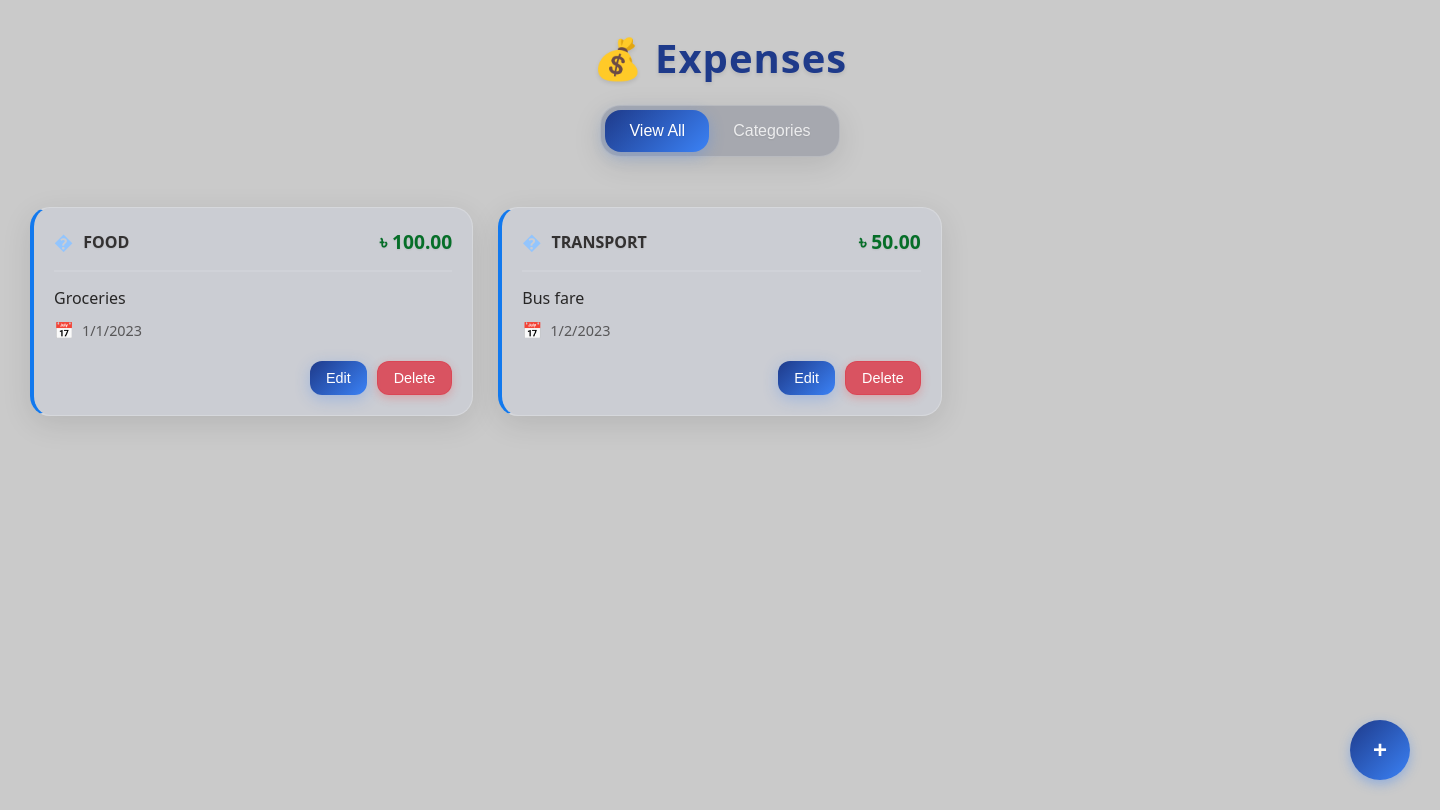
Test: Expenses Component › handles expense deletion cancellation
Expected: the text "Groceries" is shown, x1=54 y1=287 x2=126 y2=309
# Find and click delete button to open dialog
What coordinates should you click on to do the following:
click the button "Delete" below "1/1/2023"
I would click on:
 (414, 378)
Its box is x1=377 y1=361 x2=452 y2=395.
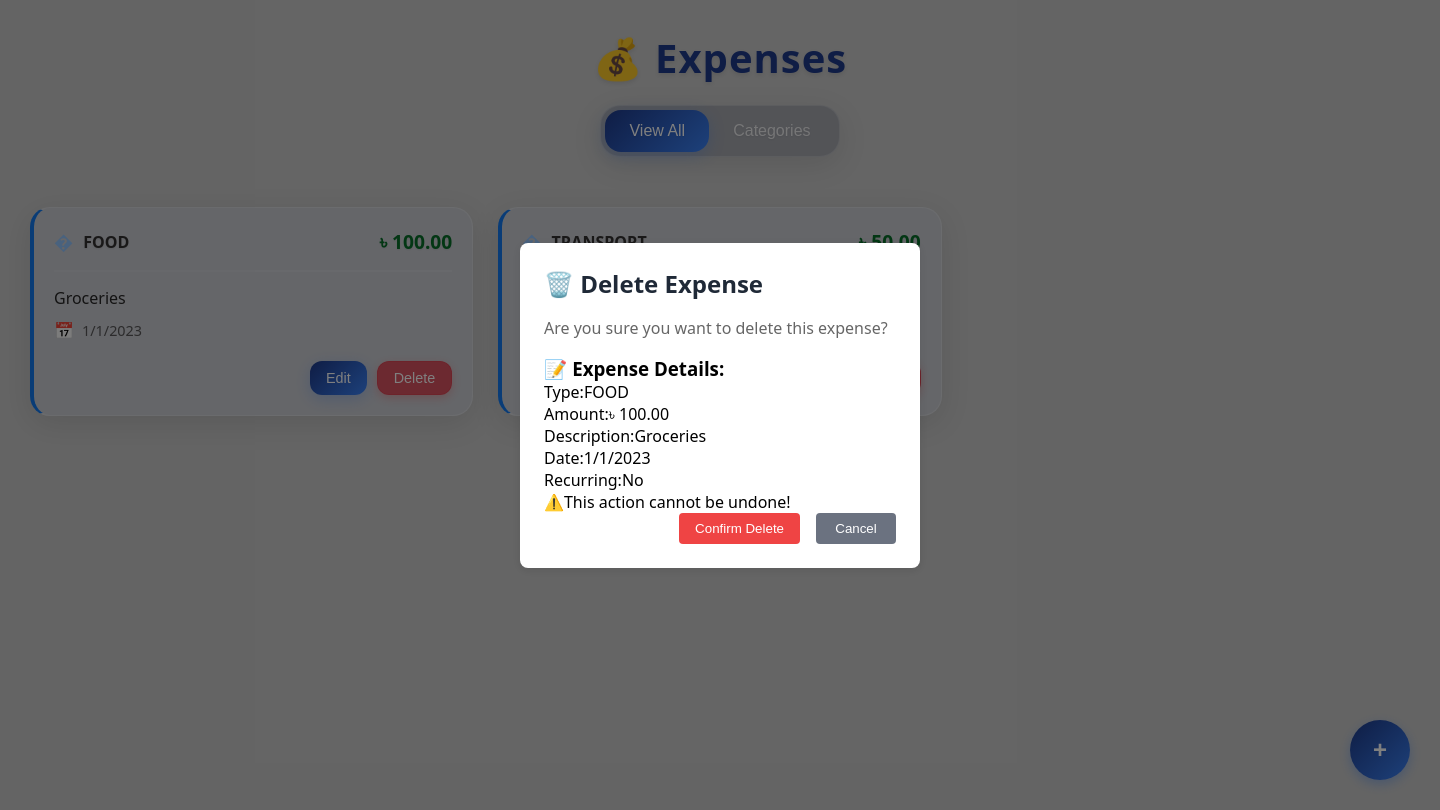
Now the text "Are you sure you want to delete this expense?" is shown, box x1=544 y1=316 x2=896 y2=340
What coordinates should you click on to do the following:
click the button "Cancel"
I would click on:
 (856, 528)
Its box is x1=816 y1=512 x2=896 y2=544.
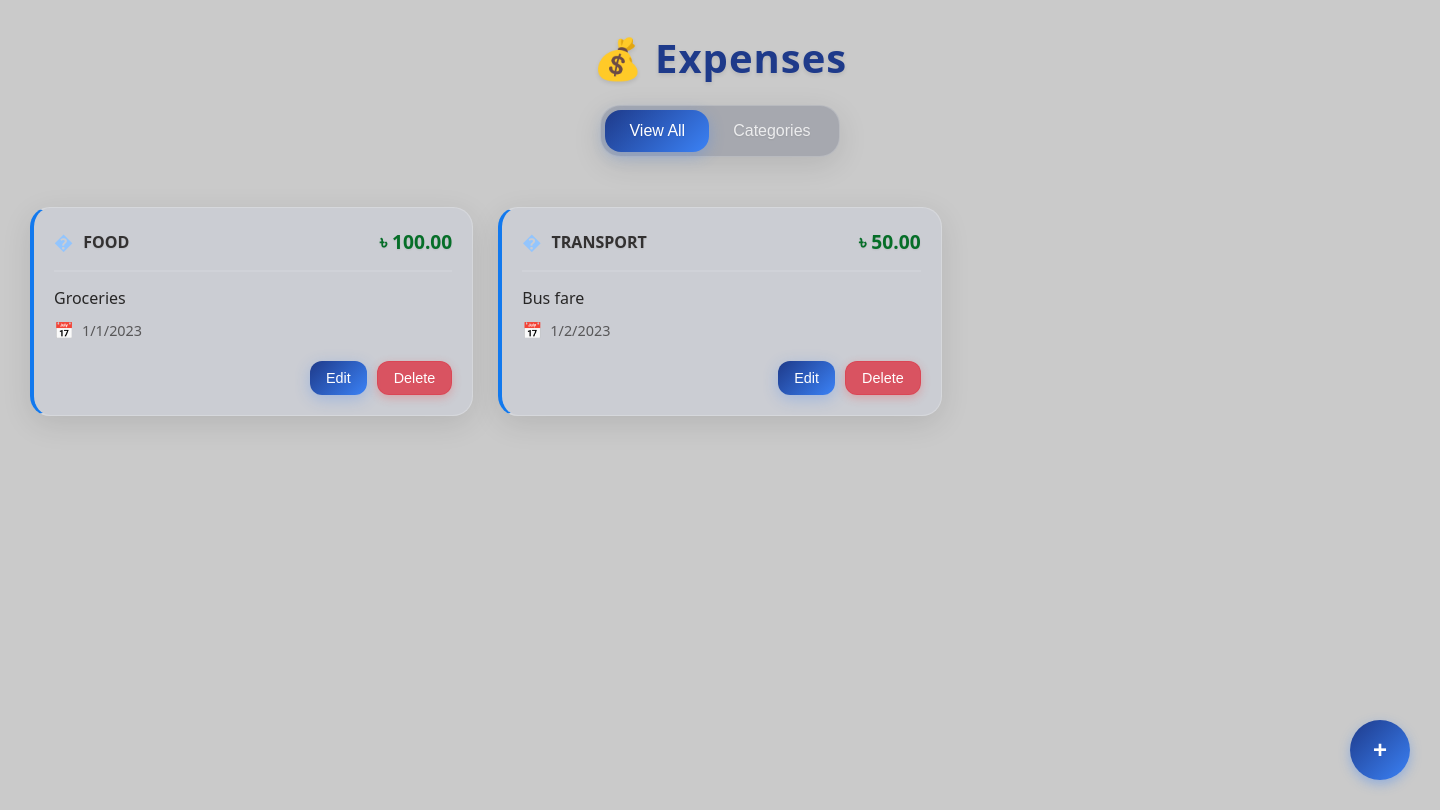
Now the text "Are you sure you want to delete this expense" is gone
